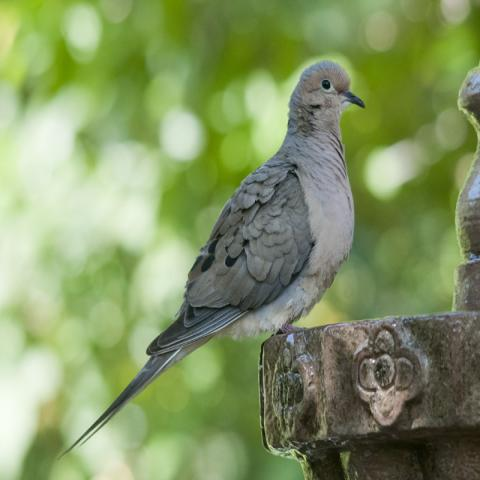bird: (56, 58, 366, 459)
